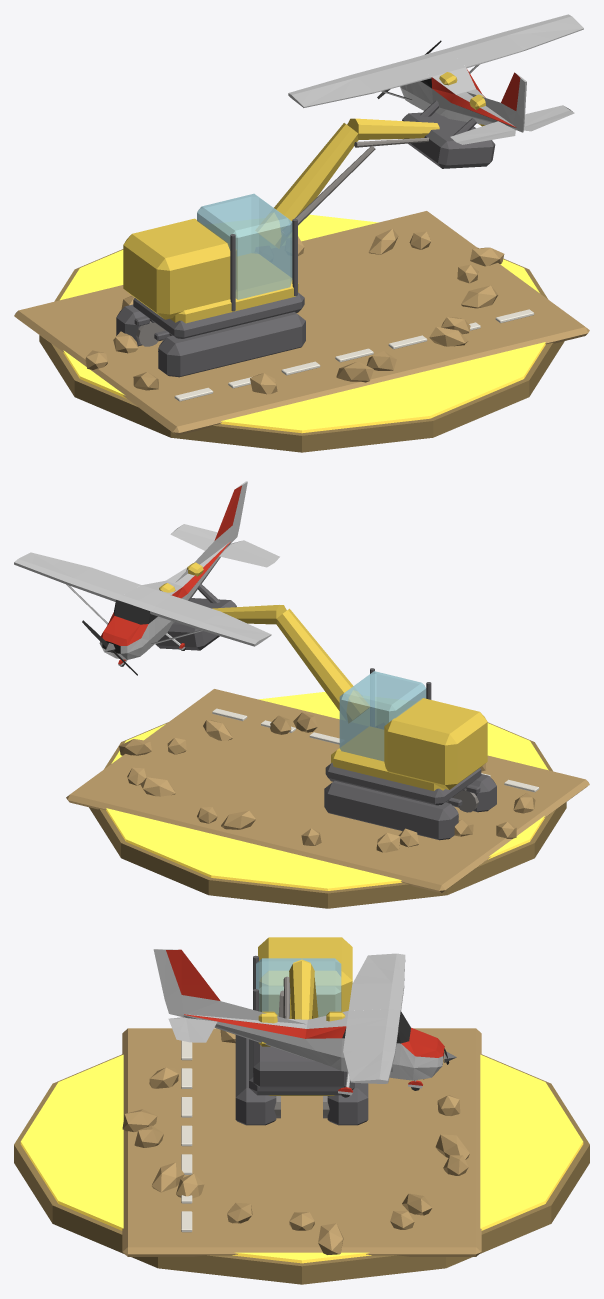
The model's file is demo.glb.
The picture shows the model from 3 angles, top to bottom: view 1: azimuth 30°, elevation 25°; view 2: azimuth 150°, elevation 25°; view 3: azimuth 270°, elevation 25°; orthographic projection. The views are drawn at different scales.
Parts seen in each view (by area): view 1: Runway, Stage_Trim, Fuselage_Cube.003, Stage_Platform, ExcavatorCounterweight, ExcavatorCab, Track_-1, ExcavatorBoom, ExcavatorTurntable, ExcavatorBucket, ExcavatorUndercarriage, ExcavatorStick (+4 smaller); view 2: Runway, Fuselage_Cube.003, Stage_Trim, Stage_Platform, ExcavatorCounterweight, ExcavatorCab, Track_1, ExcavatorBoom, ExcavatorTurntable, ExcavatorUndercarriage, ExcavatorBucket, ExcavatorStick (+1 smaller); view 3: Runway, Stage_Trim, Fuselage_Cube.003, Stage_Platform, ExcavatorCounterweight, ExcavatorBucket, ExcavatorCab, Track_-1, Track_1, ExcavatorStick, ExcavatorUndercarriage, DemoRock_11 (+7 smaller).
Part boxes in pixels (x1,y1,x2,y2): Runway: [14, 211, 589, 435]; Stage_Trim: [60, 214, 545, 433]; Fuselage_Cube.003: [288, 14, 583, 144]; Stage_Platform: [39, 247, 564, 452]; ExcavatorCounterweight: [123, 218, 236, 319]; ExcavatorCab: [197, 193, 292, 299]; Track_-1: [158, 312, 305, 377]; ExcavatorBoom: [255, 123, 358, 248]; ExcavatorTurntable: [170, 253, 298, 323]; ExcavatorBucket: [402, 112, 495, 168]; ExcavatorUndercarriage: [133, 292, 304, 338]; ExcavatorStick: [347, 118, 439, 139]; Runway: [66, 689, 589, 893]; Fuselage_Cube.003: [14, 481, 279, 666]; Stage_Trim: [106, 692, 548, 890]; Stage_Platform: [89, 722, 566, 908]; ExcavatorCounterweight: [384, 698, 487, 789]; ExcavatorCab: [339, 671, 426, 761]; Track_1: [324, 780, 458, 840]; ExcavatorBoom: [276, 608, 369, 722]; ExcavatorTurntable: [331, 726, 444, 791]; ExcavatorUndercarriage: [325, 763, 481, 805]; ExcavatorBucket: [155, 598, 236, 650]; ExcavatorStick: [212, 605, 286, 624]; Runway: [122, 1028, 481, 1256]; Stage_Trim: [20, 1054, 583, 1263]; Fuselage_Cube.003: [153, 949, 444, 1097]; Stage_Platform: [14, 1054, 589, 1284]; ExcavatorCounterweight: [258, 937, 352, 1016]; ExcavatorBucket: [253, 1040, 350, 1088]; ExcavatorCab: [256, 958, 341, 1017]; Track_-1: [235, 1035, 276, 1125]; Track_1: [327, 1083, 368, 1125]; ExcavatorStick: [289, 961, 314, 1019]; ExcavatorUndercarriage: [249, 1039, 354, 1095]; DemoRock_11: [318, 1223, 343, 1254].
Bounding box in the file's own units: 9.97 × 4.84 × 8.5.
